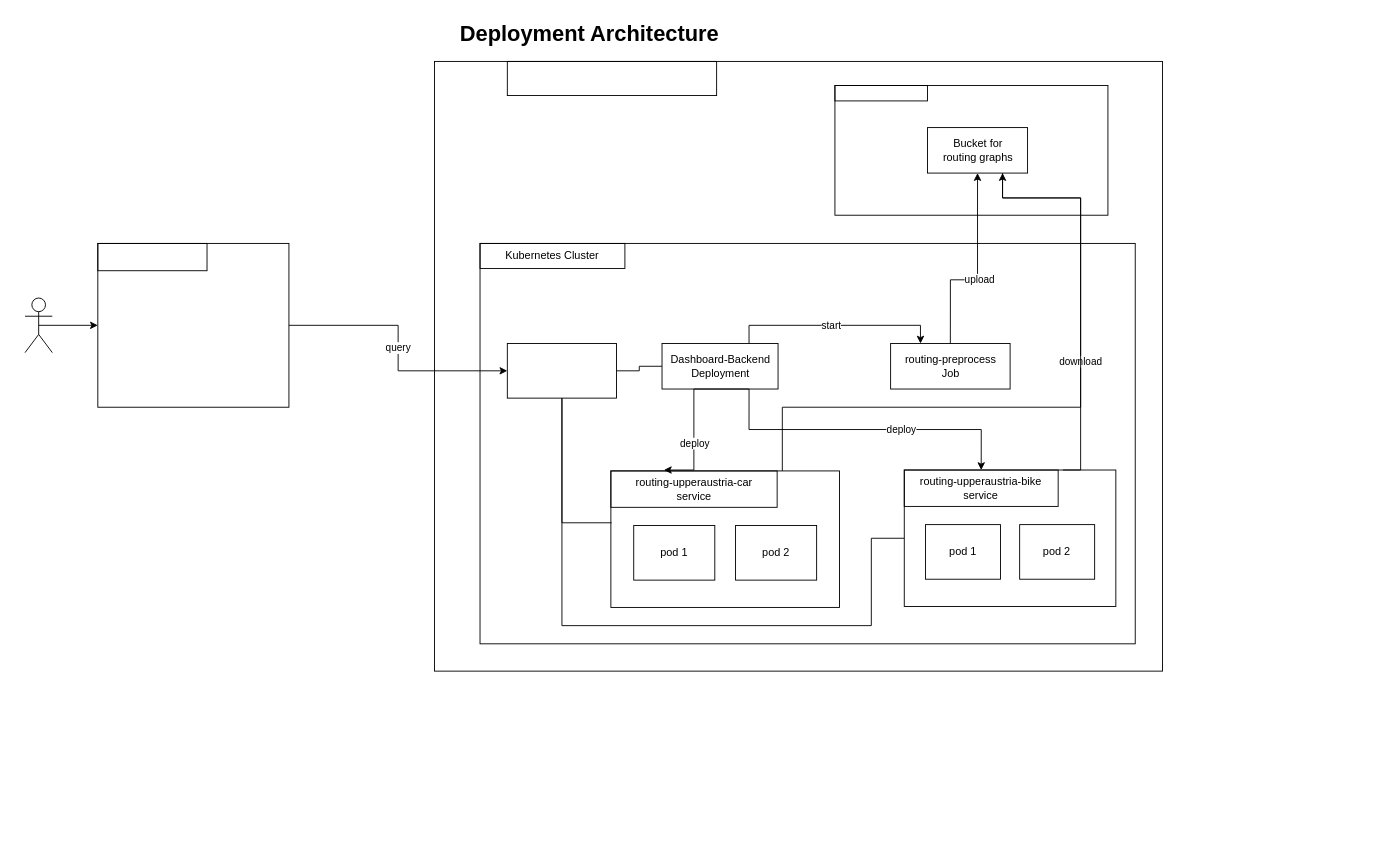
Some shapes in this 1387 by 850 pixel diagram are drawn without their labels. Here are the shapes that lost their labels. From the top down, the centre of each, then its label:
At (x=611, y=78): "Amazon Web Services".
At (x=880, y=93): "AWS S3".
At (x=152, y=257): "Dashboard UI".
At (x=38, y=325): "User".
At (x=561, y=370): "Load Balancer".
